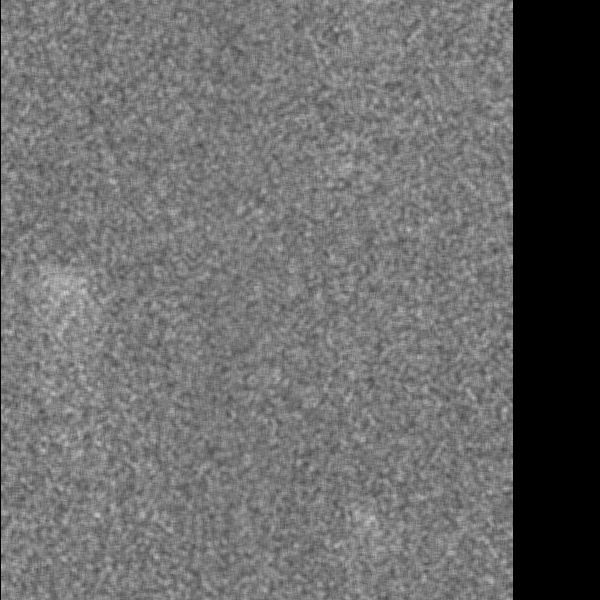spark: (19, 281, 75, 300)
